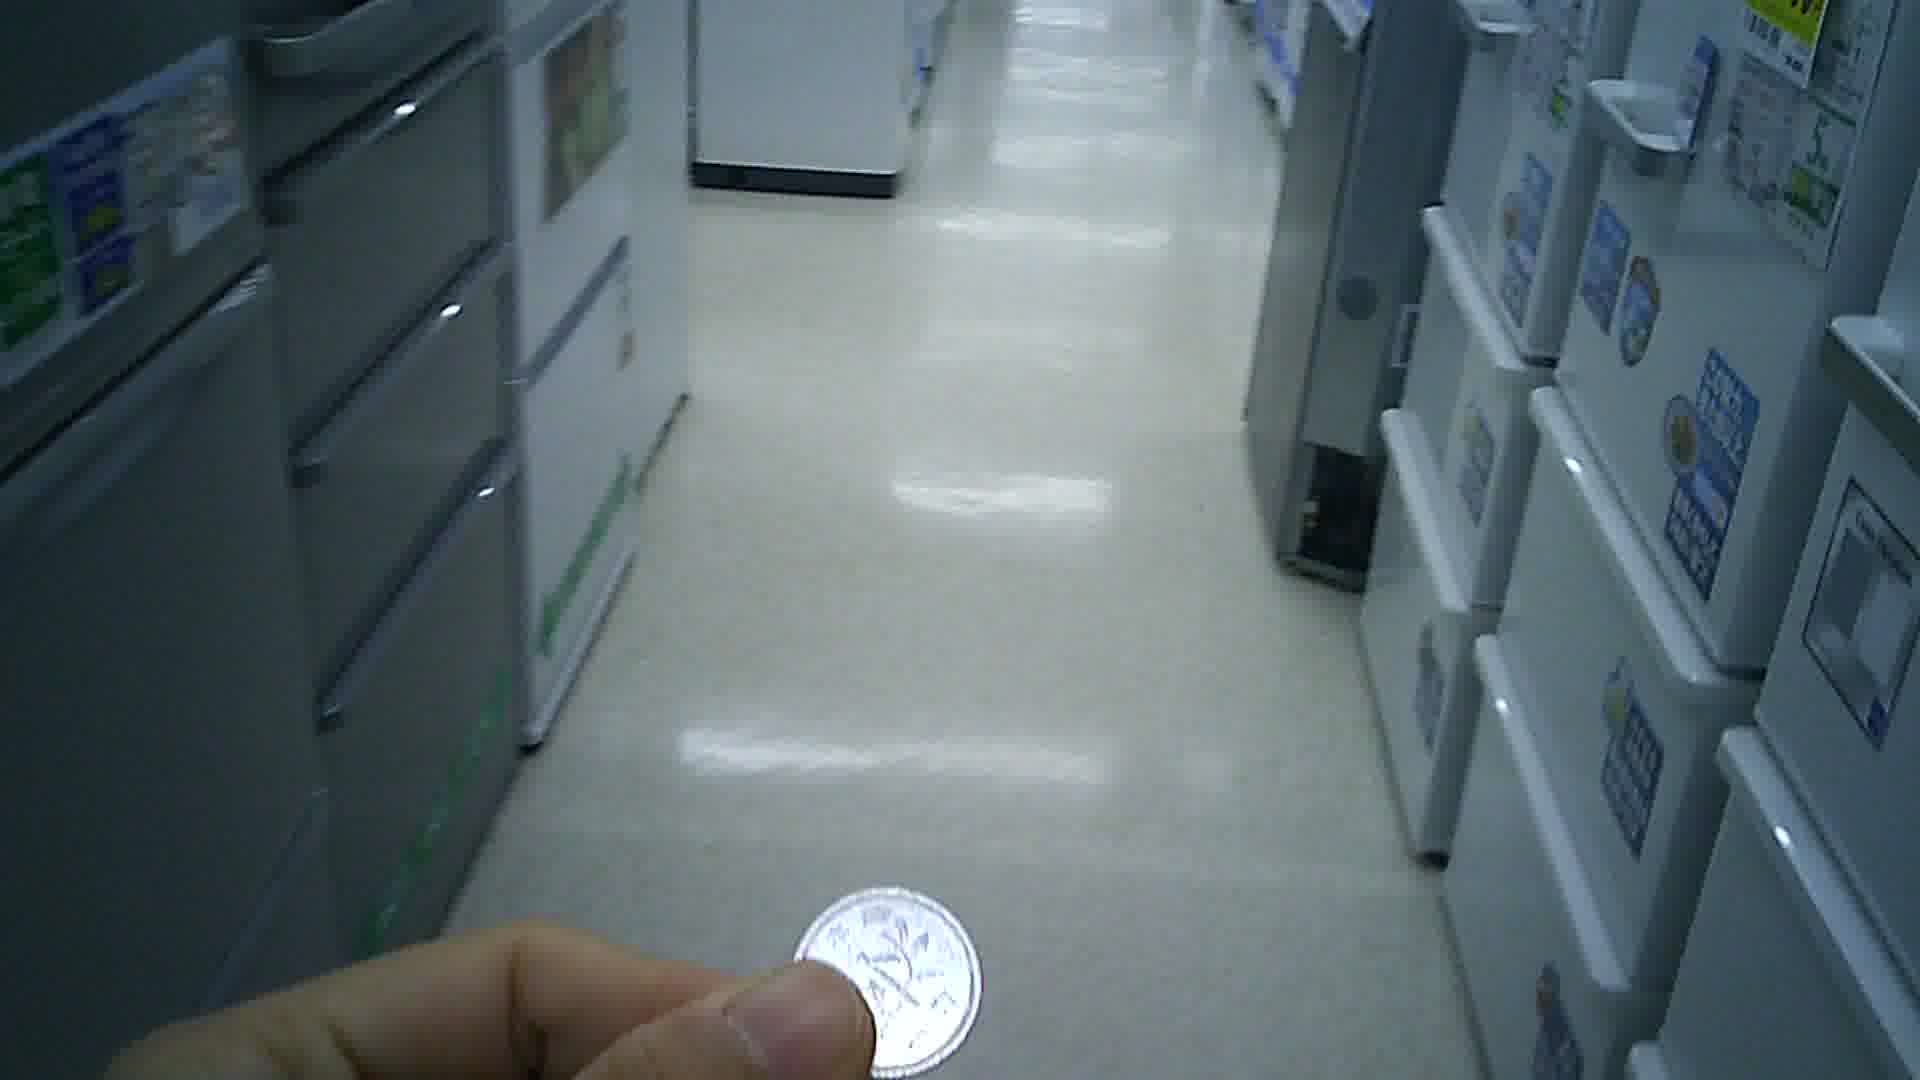1 Yen: (793, 885, 986, 1071)
